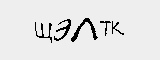К: (108, 19, 123, 36)
Л: (73, 15, 99, 42)
Т: (100, 18, 113, 38)
Щ: (33, 22, 51, 41)
Э: (52, 15, 71, 44)
